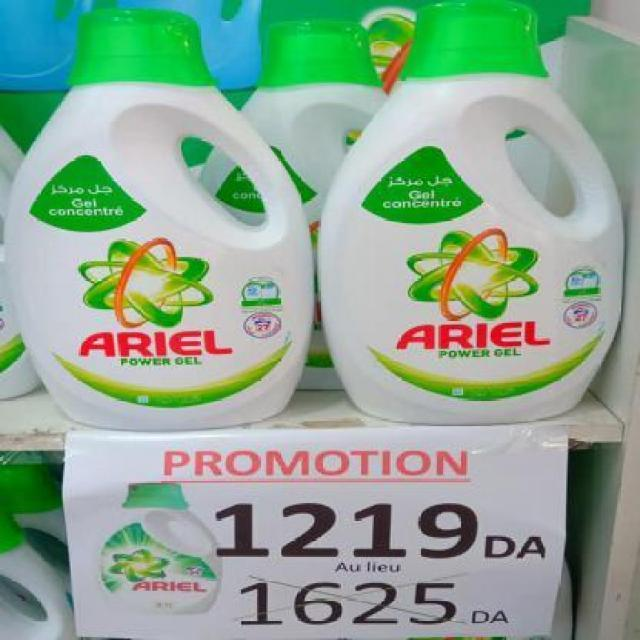Detergent: (0, 0, 308, 423), (322, 0, 604, 422)
